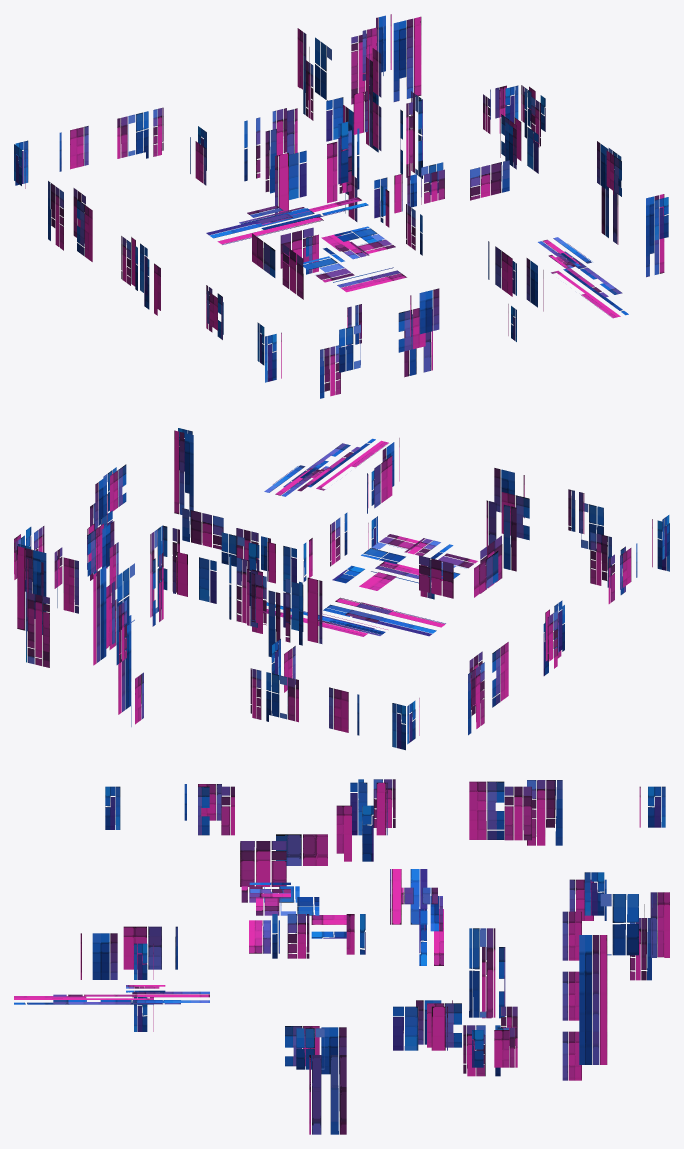
File: lightshade-intro.FBX
The picture shows the model from 3 angles, top to bottom: view 1: azimuth 30°, elevation 25°; view 2: azimuth 150°, elevation 25°; view 3: azimuth 270°, elevation 25°; orthographic projection. The views are drawn at different scales.
Parts seen in each view (by area): view 1: Object017, Object022, Object003, Object009, Object015, Object030, Object004, Object014, Object007, Object020, Object024, Object005 (+22 smaller); view 2: Object003, Object022, Object015, Object017, Object009, Object030, Object018, Object004, Object014, Object007, Object016, Object020 (+22 smaller); view 3: Object004, Object016, Object005, Object020, Object029, Object008, Object033, Object012, Object009, Object006, Object013, Object007 (+9 smaller).
Boxes of the visible parts, x1,y1,x2,y2 form: Object017: (362,16,421,101); Object022: (59,107,163,171); Object003: (398,288,439,377); Object009: (206,197,368,244); Object015: (244,108,297,193); Object030: (320,304,361,398); Object004: (48,181,92,261); Object014: (374,162,444,218); Object007: (538,237,628,318); Object020: (297,28,331,120); Object024: (327,121,359,203); Object005: (597,141,621,244); Object003: (486,468,529,571); Object022: (250,668,359,735); Object015: (247,569,302,657); Object017: (17,546,78,634); Object009: (263,597,445,636); Object030: (568,489,611,587); Object018: (26,558,49,667); Object004: (468,642,508,735); Object014: (221,528,296,586); Object007: (264,438,388,496); Object016: (93,542,118,665); Object020: (106,563,134,664); Object004: (469,780,562,845); Object016: (562,911,607,1031); Object005: (285,1026,346,1134); Object020: (600,892,669,980); Object029: (80,926,177,1031); Object008: (336,779,395,861); Object033: (240,834,327,886); Object012: (393,1000,461,1050); Object009: (390,869,443,965); Object006: (469,928,505,1018); Object013: (463,1025,517,1076); Object007: (14,985,209,1004).
Bounding box in the file's own units: 1595 × 540 × 1765.
